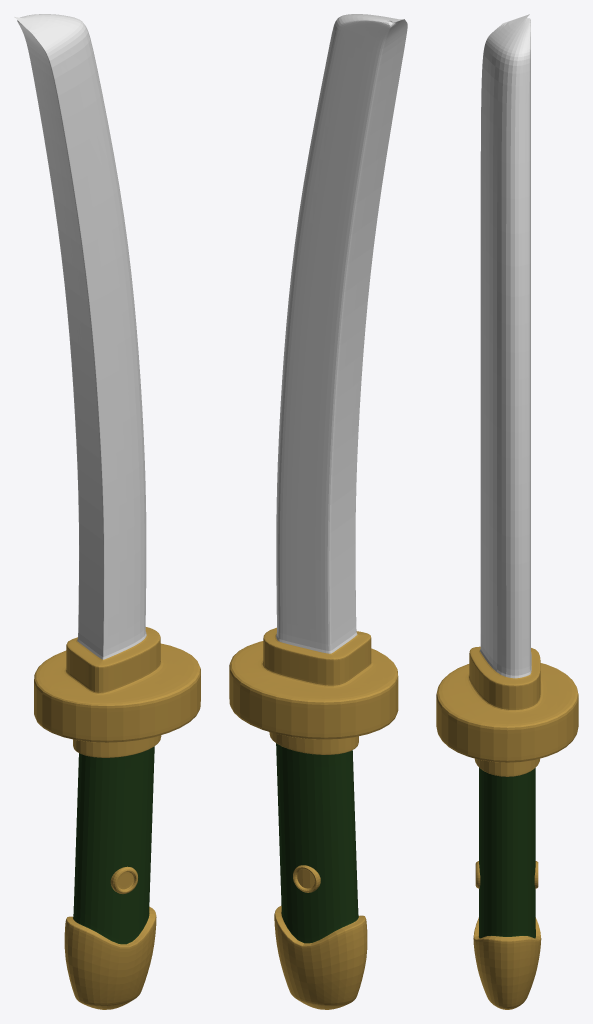
Rendered from Hwando_Dando.fbx.
3 views of the same model, side by side, from view 1: azimuth 30°, elevation 25°; view 2: azimuth 150°, elevation 25°; view 3: azimuth 270°, elevation 25° (orthographic). The views are drawn at different scales.
Parts seen in each view (by area): view 1: Hwando S Final; view 2: Hwando S Final; view 3: Hwando S Final.
Boxes of the visible parts, x1,y1,x2,y2 form: Hwando S Final: (14, 14, 200, 1009); Hwando S Final: (229, 14, 407, 1009); Hwando S Final: (436, 14, 578, 1009).
Size of the model in its own units: 352 by 2030 by 275.
